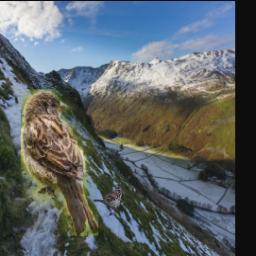Sparrow: (21, 90, 98, 237), (91, 185, 123, 216)
